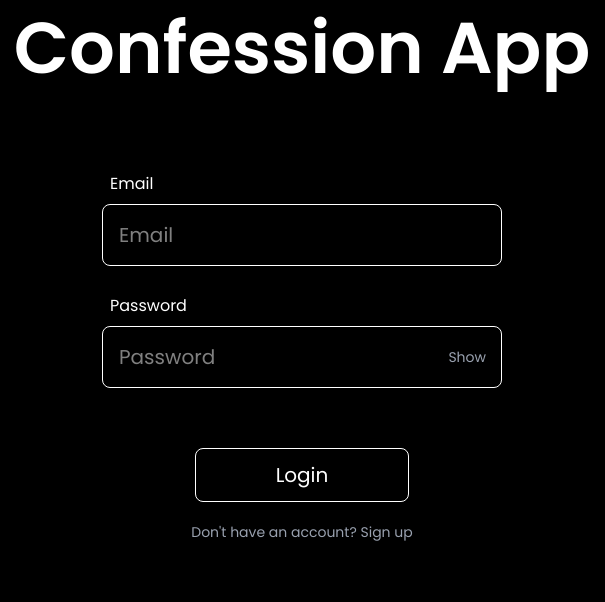
Scenario: Form › shows error for invalid email format
In the field with placeholder "Email": (302, 235) [102, 204, 502, 266], type "notanemail"
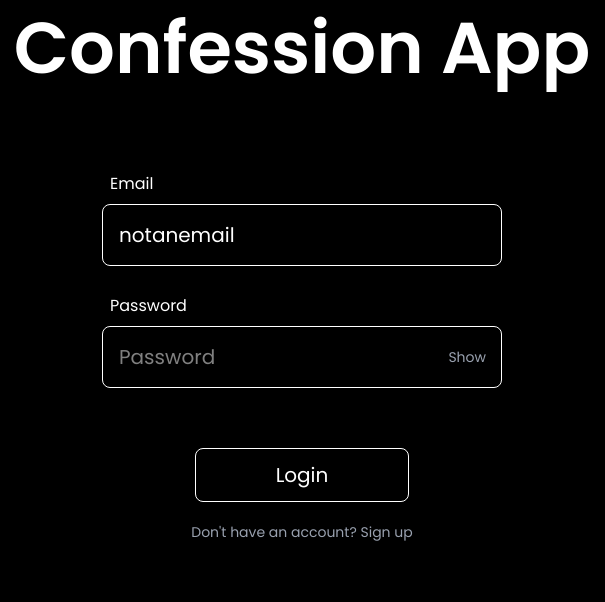
In the password field with placeholder "Password": (302, 357) [102, 326, 502, 388], type "123456"
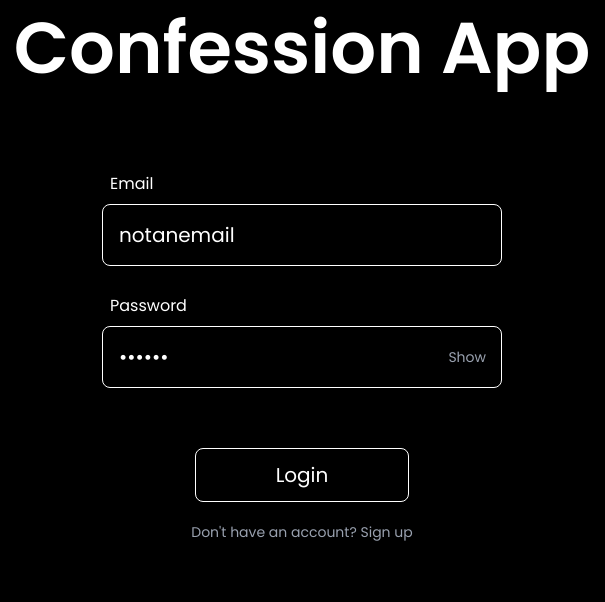
Click the button "Login": click(302, 475) [195, 448, 409, 502]
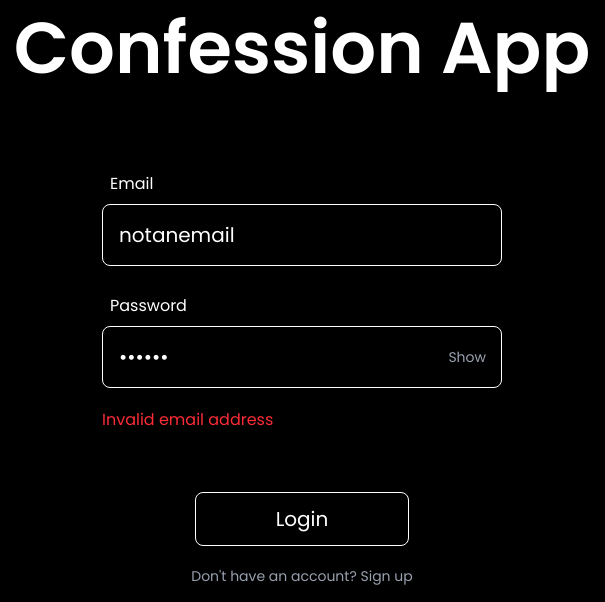
Now the text "Invalid email address" is shown, box [102, 408, 273, 431]
